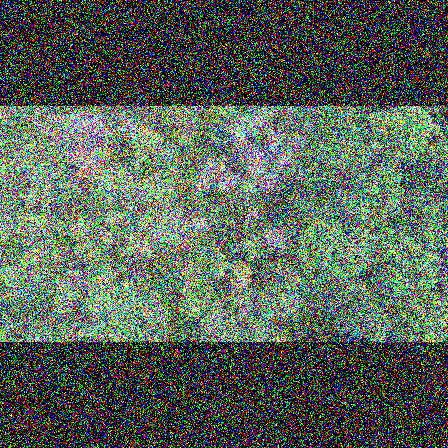Dead: (12, 109, 76, 142), (75, 116, 126, 153), (259, 222, 294, 254), (221, 121, 253, 156), (245, 107, 274, 136), (189, 210, 214, 240), (272, 152, 300, 176), (192, 170, 216, 196), (242, 142, 270, 162), (262, 127, 285, 150), (279, 106, 299, 131), (215, 172, 239, 192), (246, 159, 269, 175), (240, 208, 264, 223), (262, 174, 282, 191)
